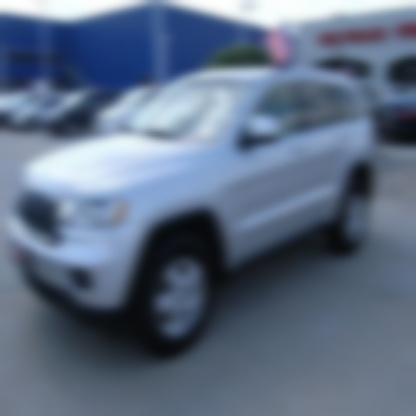Vehicle: (11, 67, 380, 361)
